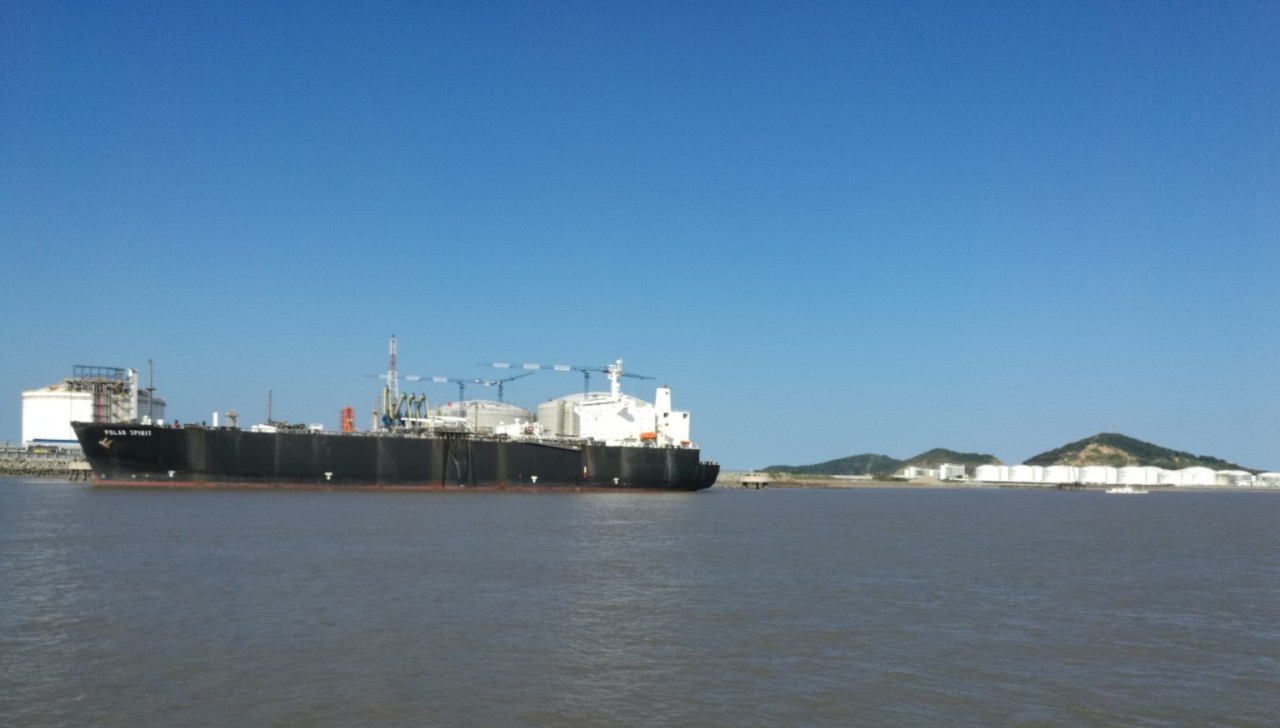Cargoship: (65, 340, 722, 495)
